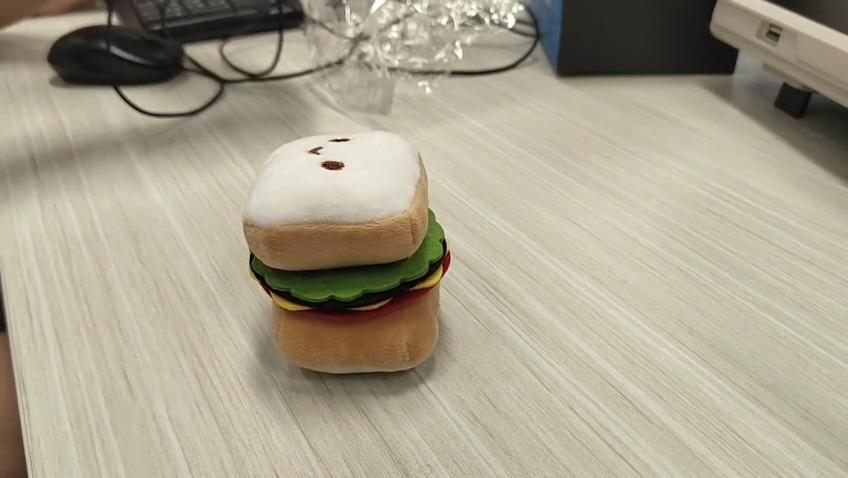objects: (243, 129, 454, 376)
